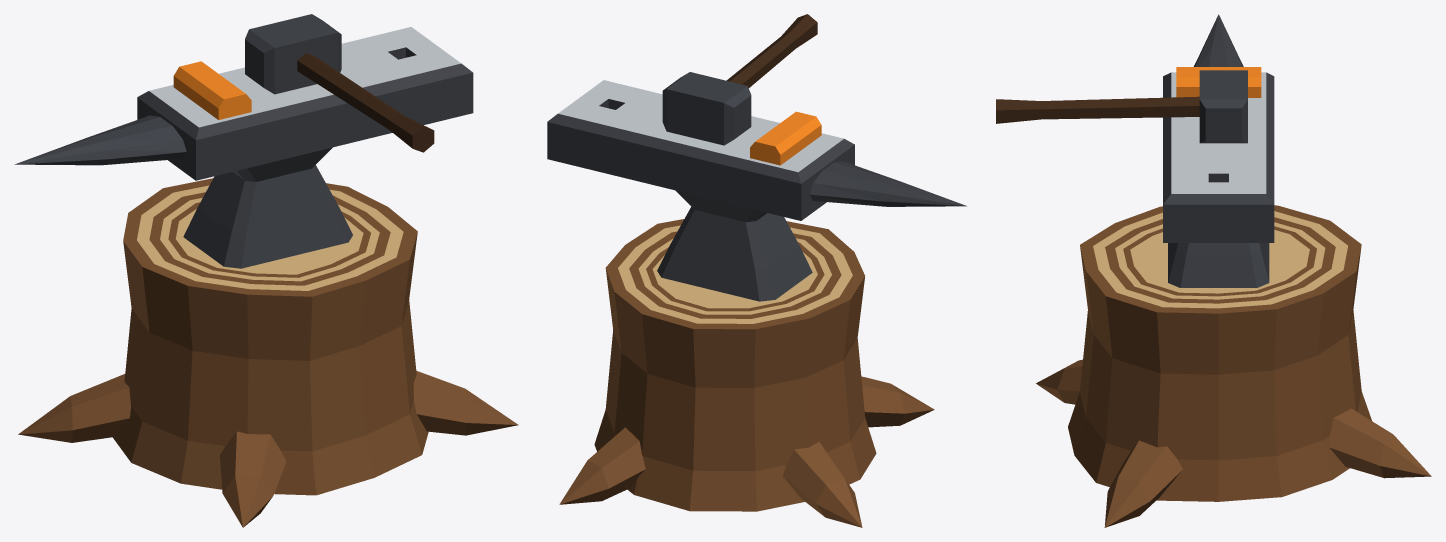
Rendered from anvil-stump.glb.
The picture shows the model from 3 angles, left to right: view 1: azimuth 30°, elevation 25°; view 2: azimuth 150°, elevation 25°; view 3: azimuth 270°, elevation 25°; orthographic projection. The views are drawn at different scales.
Parts seen in each view (by area): view 1: Stump, Anvil, Rings, AnvilTop, Hammer, Glow; view 2: Stump, Anvil, Rings, AnvilTop, Glow, Hammer; view 3: Stump, Anvil, Rings, AnvilTop, Hammer, Glow.
Part boxes in pixels (<box>): Stump: <box>18,178,518,527</box>; Anvil: <box>14,14,473,268</box>; Rings: <box>137,185,403,290</box>; AnvilTop: <box>149,27,461,127</box>; Hammer: <box>297,53,434,152</box>; Glow: <box>173,61,251,119</box>; Stump: <box>559,219,934,527</box>; Anvil: <box>547,72,966,301</box>; Rings: <box>618,225,852,323</box>; AnvilTop: <box>558,80,843,172</box>; Glow: <box>750,111,821,165</box>; Hammer: <box>726,14,817,87</box>; Stump: <box>1036,205,1431,527</box>; Anvil: <box>1163,14,1274,287</box>; Rings: <box>1093,211,1347,308</box>; AnvilTop: <box>1171,72,1266,193</box>; Hammer: <box>996,96,1199,123</box>; Glow: <box>1176,67,1261,97</box>.
Bounding box in the file's own units: 4.81 × 4.06 × 4.31.
